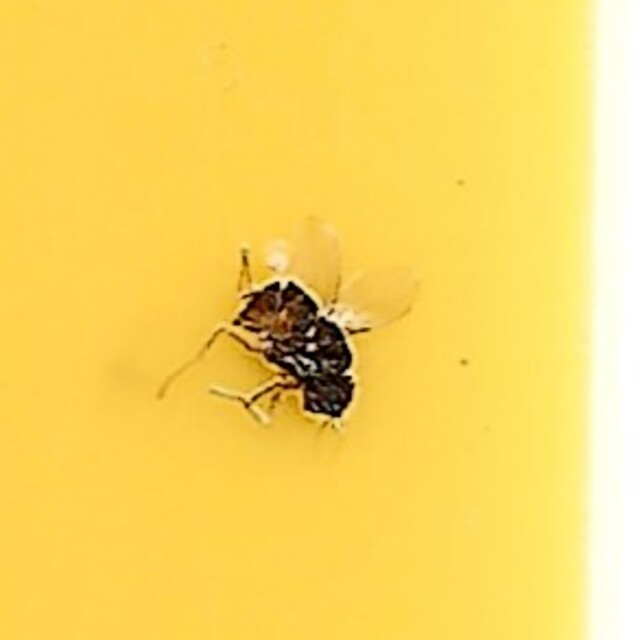Brachycera: (218, 218, 422, 422)
